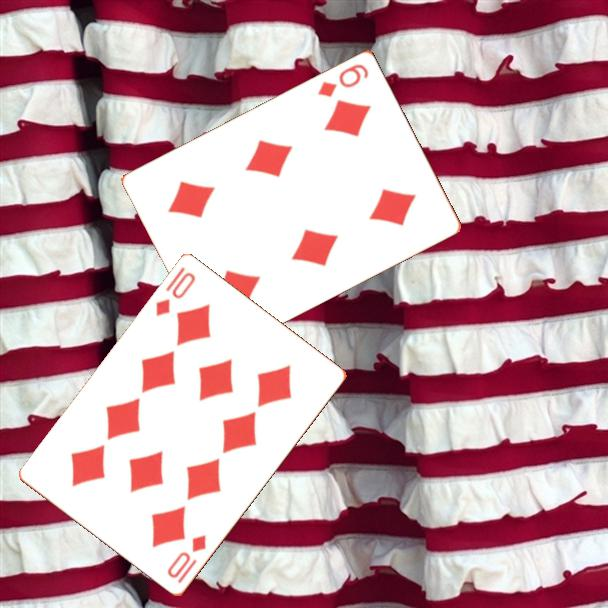d06: (314, 60, 372, 100)
d10: (152, 264, 198, 320), (163, 532, 209, 587)
